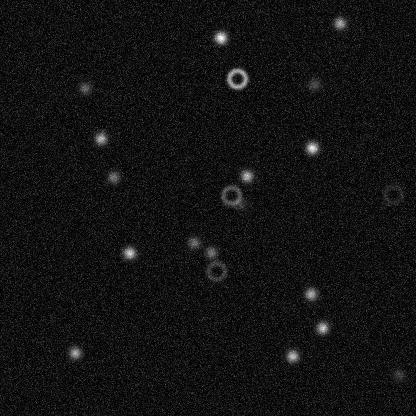Ring: (94, 186, 118, 210), (135, 52, 159, 76)
Spot: (171, 38, 187, 54), (11, 94, 27, 110)
